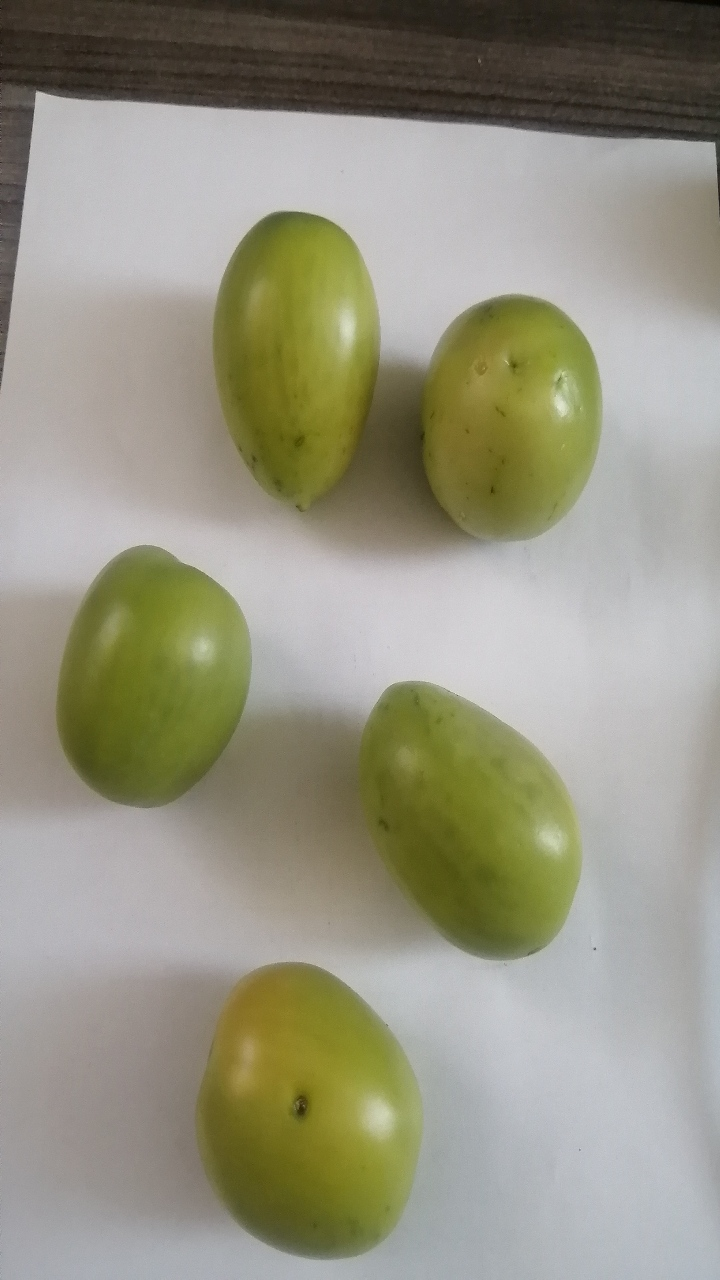tomateVerde: (140, 942, 444, 1266), (341, 672, 606, 960), (194, 188, 400, 543), (48, 519, 271, 814), (403, 262, 611, 557)
